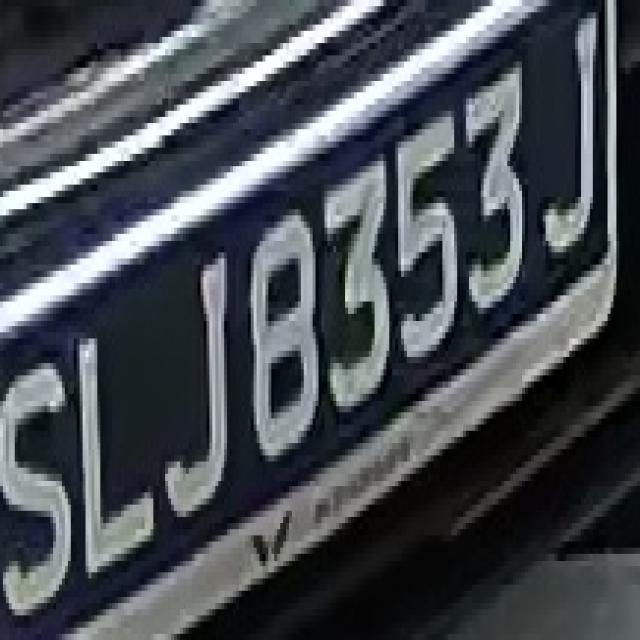3: (316, 148, 398, 412), (460, 61, 534, 314)
5: (386, 98, 463, 376)
8: (245, 203, 333, 474)
J: (142, 240, 236, 523), (536, 0, 622, 252)
L: (65, 308, 162, 584)
S: (3, 332, 68, 616)
